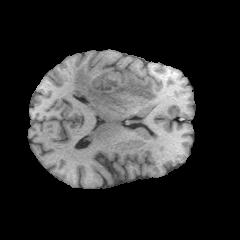glioma: (72, 65, 156, 114)
